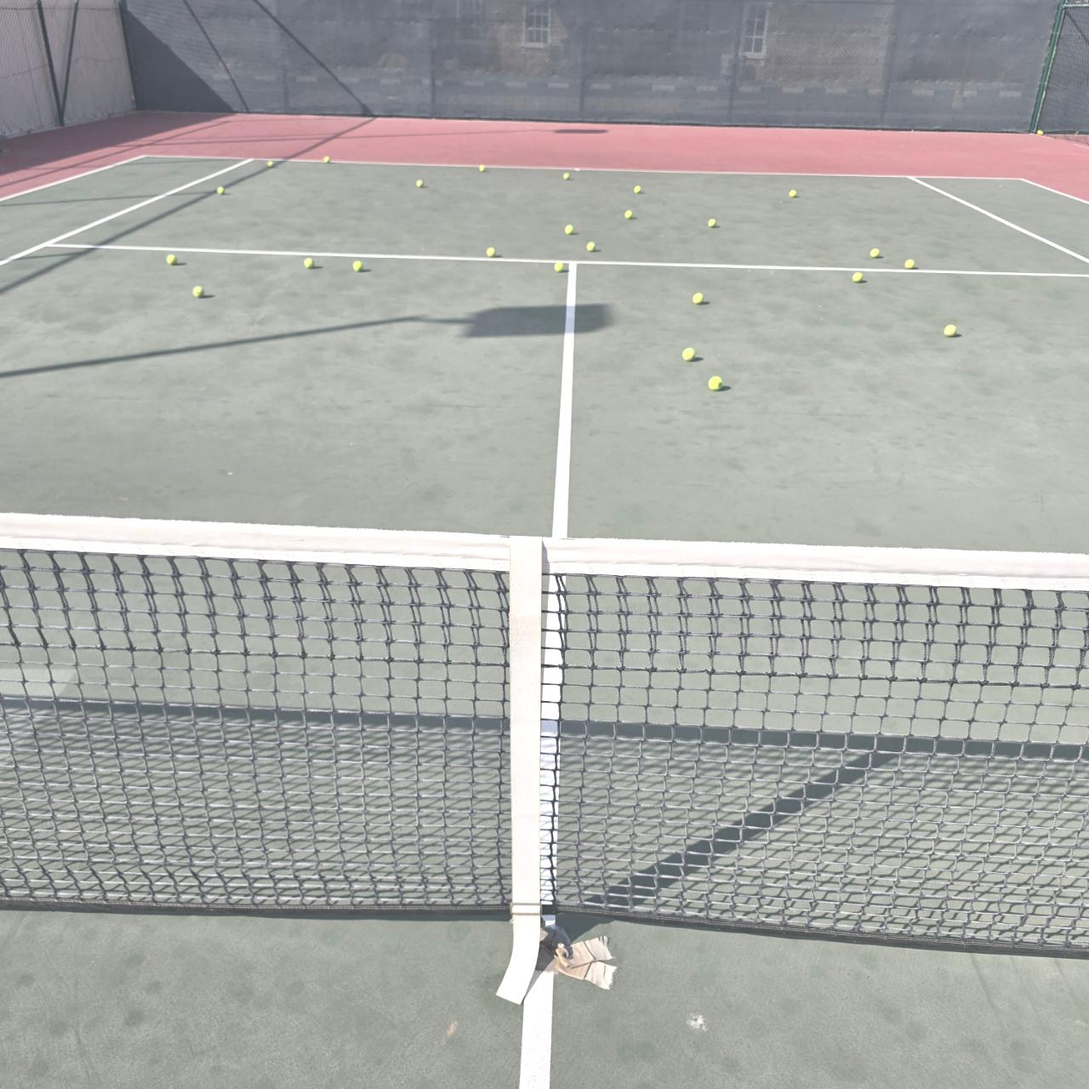tennis-ball: (709, 373, 724, 390), (682, 345, 696, 361), (944, 322, 959, 336), (303, 257, 317, 271), (192, 285, 205, 299), (352, 260, 365, 273), (167, 252, 179, 265), (692, 292, 704, 305), (869, 248, 881, 259), (851, 272, 863, 283), (586, 241, 597, 252), (486, 246, 497, 257), (905, 258, 916, 269), (554, 261, 564, 272), (707, 218, 717, 228), (565, 224, 574, 235), (562, 172, 572, 181), (624, 210, 634, 219), (217, 186, 226, 195), (789, 189, 798, 198), (415, 179, 423, 188), (633, 185, 642, 193), (478, 165, 486, 173), (267, 160, 274, 168), (323, 156, 331, 163), (1037, 129, 1043, 135)
